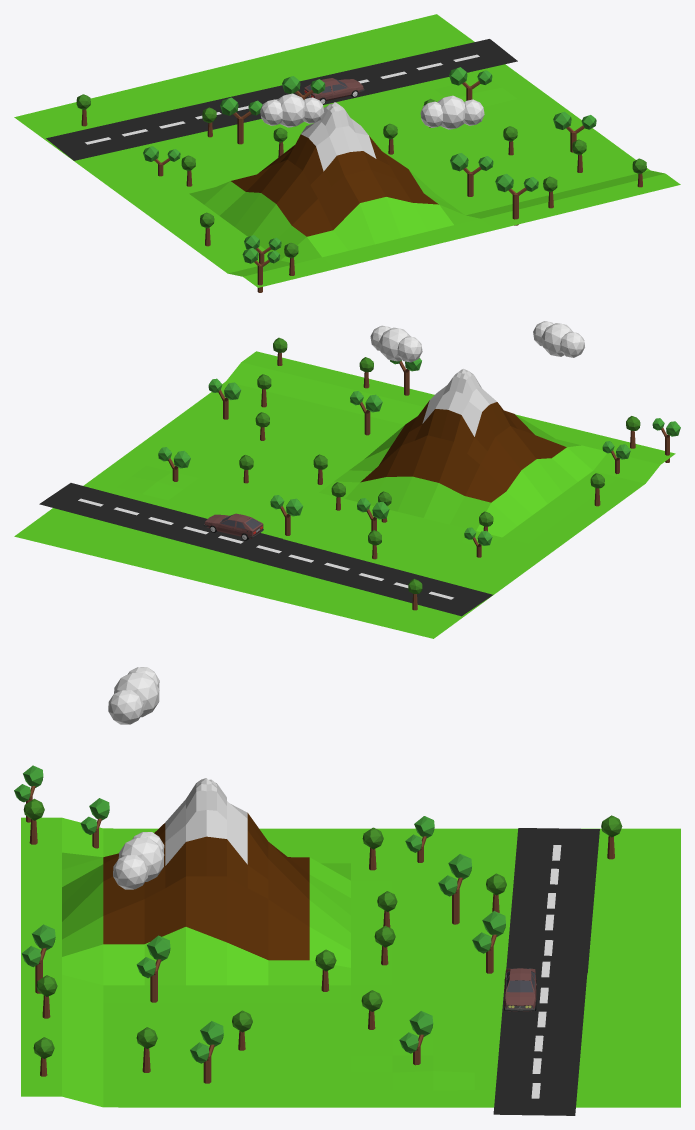
File: small_world.fbx
3 views of the same model, one above another, from view 1: azimuth 30°, elevation 25°; view 2: azimuth 150°, elevation 25°; view 3: azimuth 270°, elevation 25° (orthographic). The views are drawn at different scales.
Visible parts, largest first — view 1: Plane, Plane.006, Plane.007, Icosphere.001, Icosphere.000, Плоскость.003_Плоскость.000, Cylinder.014, Cylinder.018, Cylinder.010, Cylinder.009, Cylinder.008, Cylinder.020 (+3 smaller); view 2: Plane, Plane.006, Plane.007, Icosphere.001, Icosphere.000, Плоскость.003_Плоскость.000, Cylinder.010, Cylinder.011, Cylinder.009, Cylinder.008, Cylinder.018; view 3: Plane, Plane.006, Plane.007, Icosphere.001, Icosphere.000, Плоскость.003_Плоскость.000, Cylinder.018, Cylinder.010, Cylinder.009, Cylinder.011, Cylinder.014, Cylinder.008 (+2 smaller).
Part boxes in pixels (x1,y1,x2,y2): Plane: (14, 14, 680, 287); Plane.006: (46, 89, 278, 160); Plane.007: (267, 39, 517, 104); Icosphere.001: (260, 93, 324, 127); Icosphere.000: (420, 95, 484, 129); Плоскость.003_Плоскость.000: (303, 78, 364, 104); Cylinder.014: (495, 173, 538, 225); Cylinder.018: (220, 97, 262, 144); Cylinder.010: (450, 153, 493, 196); Cylinder.009: (553, 111, 596, 152); Cylinder.008: (449, 67, 492, 100); Cylinder.020: (242, 248, 280, 292); Plane: (14, 351, 675, 638); Plane.006: (250, 539, 492, 616); Plane.007: (39, 483, 282, 560); Icosphere.001: (533, 321, 584, 357); Icosphere.000: (370, 325, 422, 362); Плоскость.003_Плоскость.000: (203, 513, 263, 540); Cylinder.010: (350, 391, 382, 435); Cylinder.011: (270, 495, 302, 535); Cylinder.009: (208, 378, 241, 419); Cylinder.008: (158, 447, 190, 481); Cylinder.018: (357, 498, 389, 531); Plane: (21, 778, 680, 1107); Plane.006: (506, 828, 599, 972); Plane.007: (493, 971, 587, 1115); Icosphere.001: (108, 667, 159, 724); Icosphere.000: (113, 832, 164, 889); Плоскость.003_Плоскость.000: (504, 968, 536, 1011); Cylinder.018: (438, 854, 471, 924); Cylinder.010: (136, 935, 170, 1002); Cylinder.009: (190, 1021, 223, 1083); Cylinder.011: (472, 911, 505, 973); Cylinder.014: (21, 924, 55, 993); Cylinder.008: (399, 1011, 433, 1065).
Bounding box in the file's own units: 1599 × 574 × 1531.
